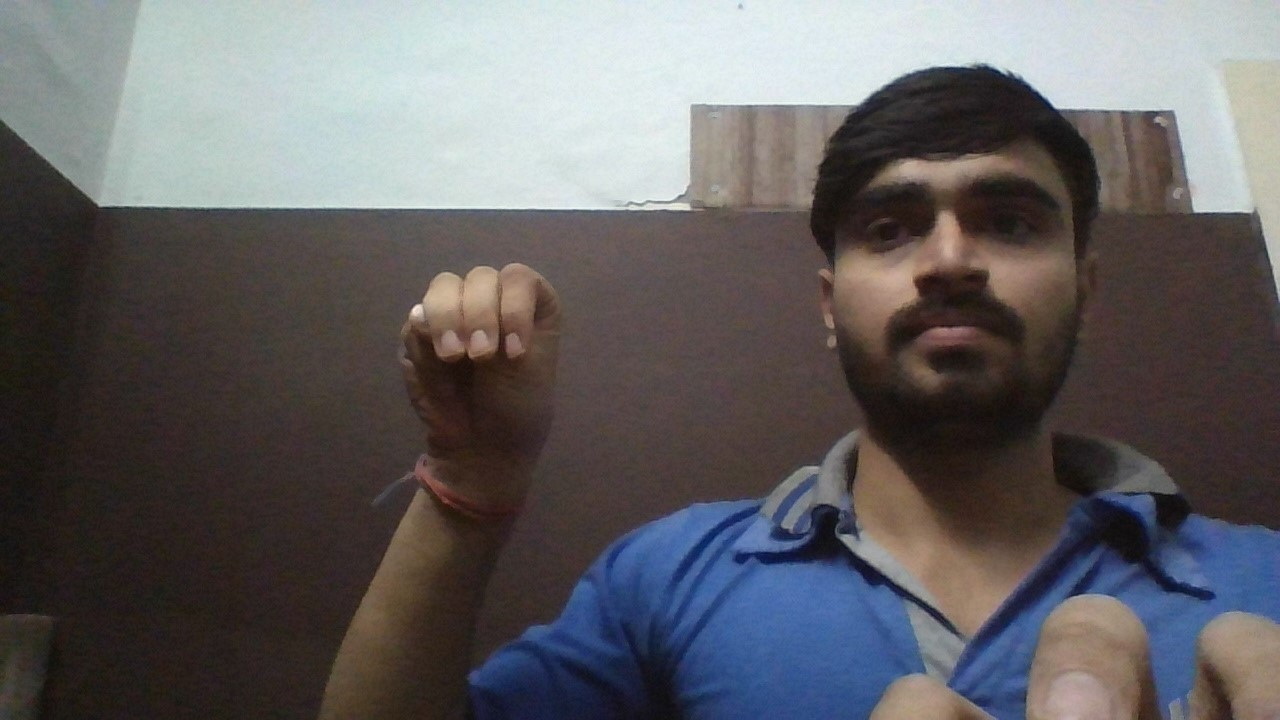M: (382, 246, 609, 461)
